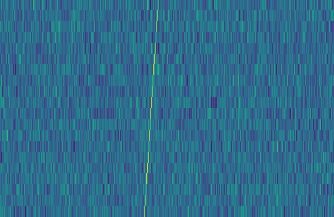signal: (139, 0, 163, 217)
